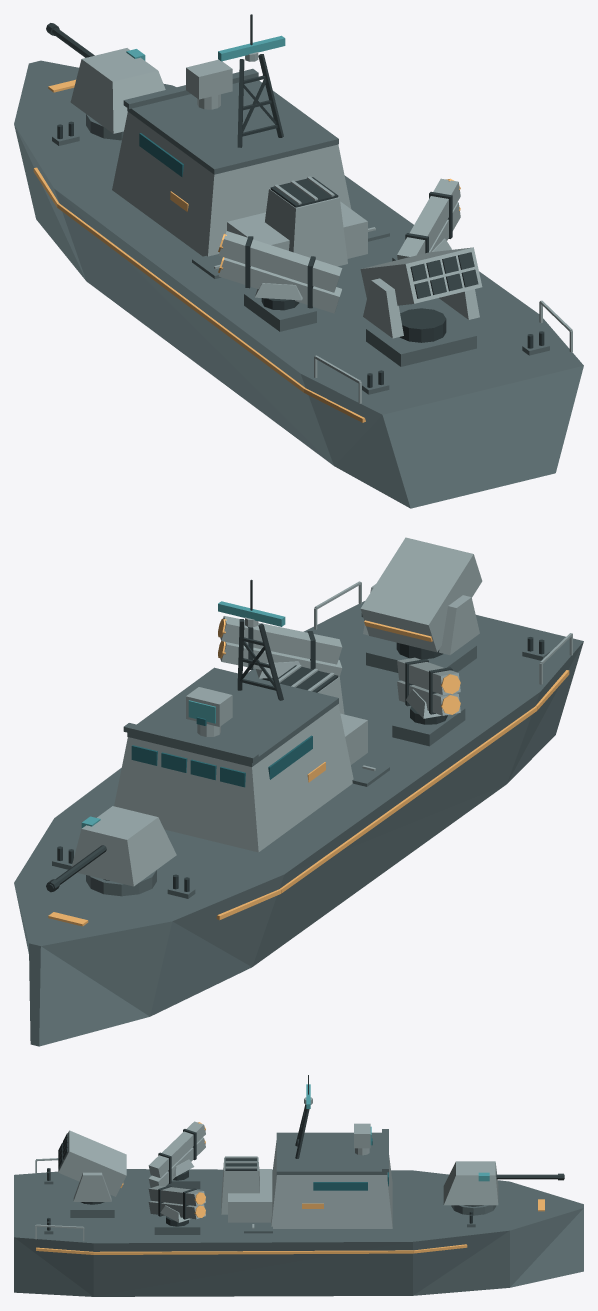
The model's file is ESC_STK_T1.fbx.
The picture shows the model from 3 angles, top to bottom: view 1: azimuth 30°, elevation 25°; view 2: azimuth 150°, elevation 25°; view 3: azimuth 270°, elevation 25°; orthographic projection. The views are drawn at different scales.
Visible parts, largest first — view 1: ContinuousHull.013, Deckhouse.013, Roof.013, PrimaryGunCupola.013, FunnelEnclosure.013, MissileBankPortTube2, RocketEightCellHousing, RocketFoundation, AftEngineHouse, MissileBankStarboardTube2, MissileBankPortTube1, RoleHullStripe-1_1 (+10 smaller); view 2: ContinuousHull.013, Deckhouse.013, Roof.013, RocketEightCellHousing, PrimaryGunCupola.013, MissileBankStarboardTube2, RoleHullStripe-1_1, RocketFoundation, RocketYoke1, BridgeBrow, MissileBankPortFoundation, MissileBankStarboardTube1 (+8 smaller); view 3: ContinuousHull.013, Deckhouse.013, Roof.013, RocketEightCellHousing, PrimaryGunCupola.013, AftEngineHouse, RoleHullStripe1_1, MissileBankPortTube2, FunnelEnclosure.013, RocketYoke-1, RocketFoundation, MissileBankStarboardTube2 (+11 smaller).
Boxes of the visible parts, x1=… form: ContinuousHull.013: x1=14, y1=60, x2=583, y2=508; Deckhouse.013: x1=112, y1=112, x2=351, y2=256; Roof.013: x1=127, y1=80, x2=338, y2=174; PrimaryGunCupola.013: x1=70, y1=48, x2=165, y2=133; FunnelEnclosure.013: x1=265, y1=188, x2=347, y2=266; MissileBankPortTube2: x1=218, y1=231, x2=342, y2=292; RocketEightCellHousing: x1=360, y1=247, x2=482, y2=305; RocketFoundation: x1=366, y1=310, x2=476, y2=366; AftEngineHouse: x1=227, y1=201, x2=367, y2=258; MissileBankStarboardTube2: x1=397, y1=178, x2=460, y2=259; MissileBankPortTube1: x1=219, y1=258, x2=342, y2=313; RoleHullStripe-1_1: x1=57, y1=203, x2=305, y2=392; ContinuousHull.013: x1=14, y1=601, x2=583, y2=1046; Deckhouse.013: x1=114, y1=704, x2=353, y2=852; Roof.013: x1=127, y1=667, x2=338, y2=766; RocketEightCellHousing: x1=360, y1=537, x2=482, y2=652; PrimaryGunCupola.013: x1=71, y1=806, x2=176, y2=886; MissileBankStarboardTube2: x1=220, y1=616, x2=342, y2=664; RoleHullStripe-1_1: x1=279, y1=706, x2=536, y2=893; RocketFoundation: x1=366, y1=639, x2=476, y2=672; RocketYoke1: x1=439, y1=595, x2=479, y2=655; BridgeBrow: x1=123, y1=723, x2=258, y2=762; MissileBankPortFoundation: x1=392, y1=707, x2=465, y2=746; MissileBankStarboardTube1: x1=220, y1=642, x2=342, y2=676; ContinuousHull.013: x1=14, y1=1169, x2=583, y2=1296; Deckhouse.013: x1=271, y1=1140, x2=392, y2=1228; Roof.013: x1=276, y1=1132, x2=387, y2=1174; RocketEightCellHousing: x1=58, y1=1130, x2=126, y2=1196; PrimaryGunCupola.013: x1=443, y1=1161, x2=498, y2=1205; AftEngineHouse: x1=228, y1=1169, x2=272, y2=1222; RoleHullStripe1_1: x1=93, y1=1250, x2=412, y2=1254; MissileBankPortTube2: x1=148, y1=1121, x2=205, y2=1177; FunnelEnclosure.013: x1=221, y1=1157, x2=259, y2=1214; RocketYoke-1: x1=73, y1=1172, x2=111, y2=1201; RocketFoundation: x1=70, y1=1186, x2=114, y2=1217; MissileBankStarboardTube2: x1=148, y1=1185, x2=205, y2=1205.
Bounding box in the file's own units: 281 × 340 × 900.
